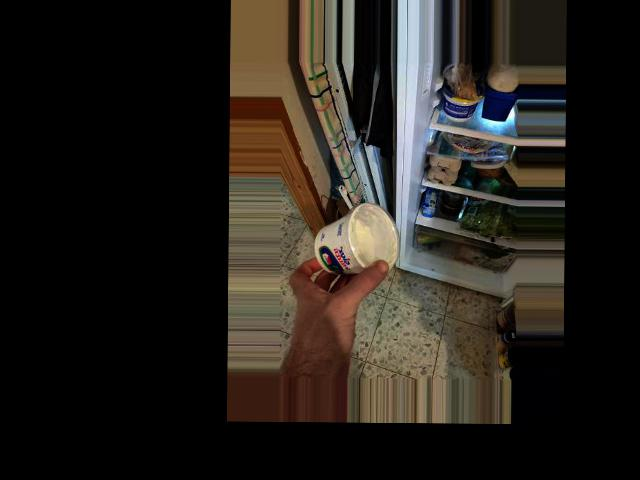cotage: (317, 193, 394, 274)
